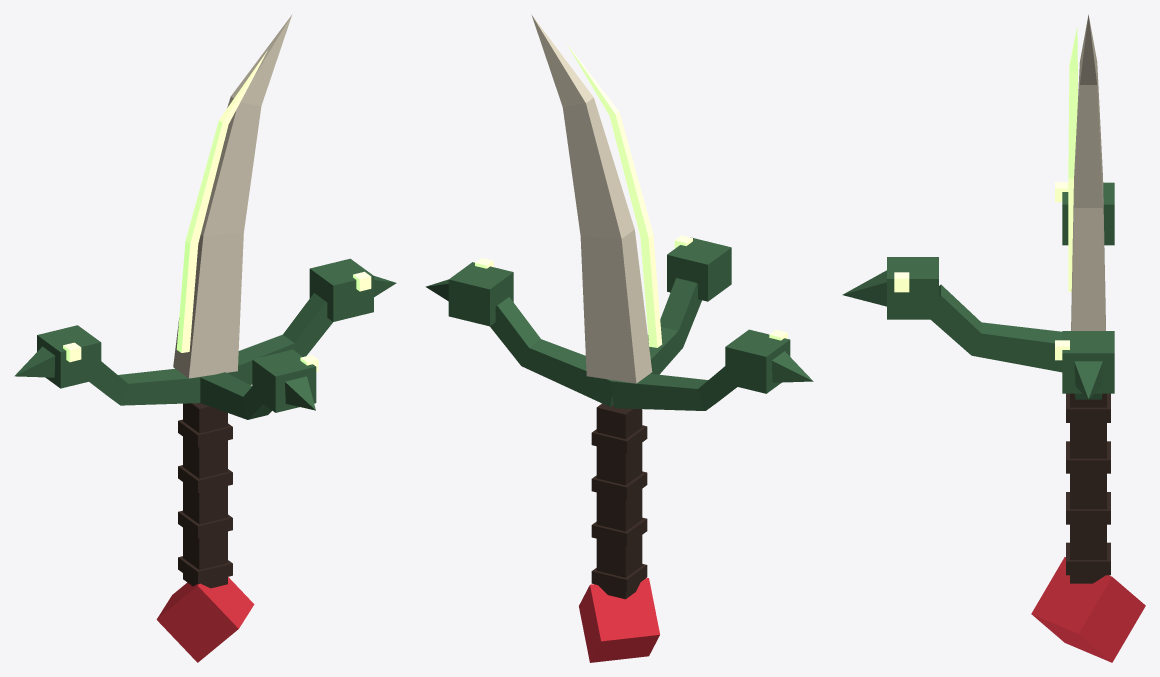
The picture shows the model from 3 angles, left to right: view 1: azimuth 30°, elevation 25°; view 2: azimuth 150°, elevation 25°; view 3: azimuth 270°, elevation 25°; orthographic projection. The views are drawn at different scales.
Visible parts, largest first — view 1: R056_Accent, R056_Main, R056_Trim, R056_Gem, R056_Glow; view 2: R056_Accent, R056_Main, R056_Trim, R056_Gem, R056_Glow; view 3: R056_Accent, R056_Main, R056_Trim, R056_Gem, R056_Glow.
Boxes of the visible parts, <box> form: R056_Accent: <box>14,258,396,419</box>; R056_Main: <box>173,14,292,378</box>; R056_Trim: <box>178,403,232,588</box>; R056_Gem: <box>156,577,254,662</box>; R056_Glow: <box>63,50,371,372</box>; R056_Accent: <box>425,237,813,410</box>; R056_Main: <box>531,14,652,383</box>; R056_Trim: <box>591,403,647,599</box>; R056_Gem: <box>579,578,659,662</box>; R056_Glow: <box>475,43,787,347</box>; R056_Accent: <box>842,182,1114,399</box>; R056_Main: <box>1071,14,1105,330</box>; R056_Trim: <box>1066,393,1110,583</box>; R056_Gem: <box>1031,557,1145,662</box>; R056_Glow: <box>894,26,1078,360</box>.
Bounding box in the file's own units: 1.32 × 2.03 × 0.8136.
